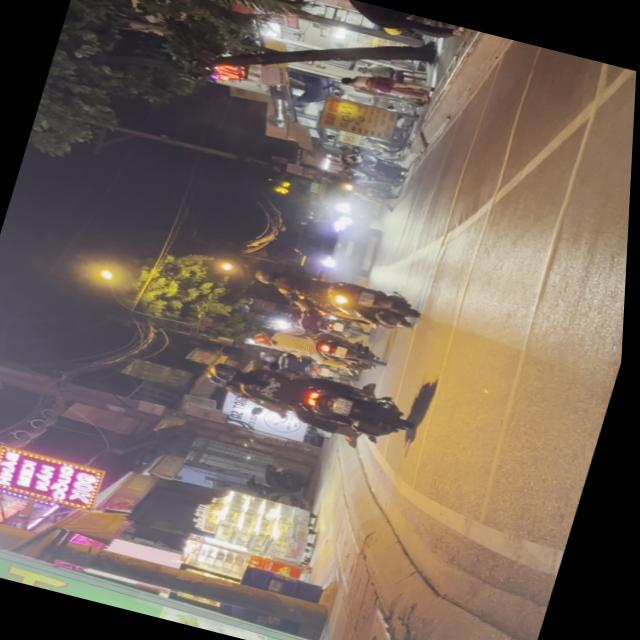helmet: (209, 358, 247, 384)
licenseplate: (197, 344, 424, 454)
nohelmet: (336, 395, 358, 415)
